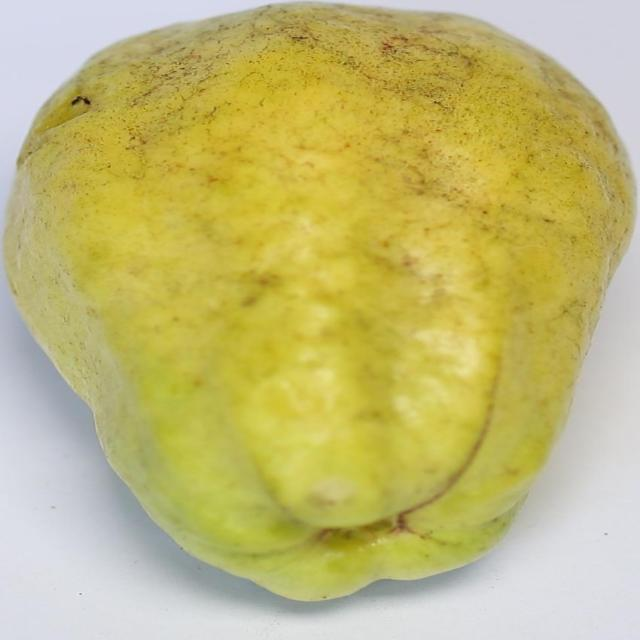Good_Guava: (0, 3, 637, 606)
